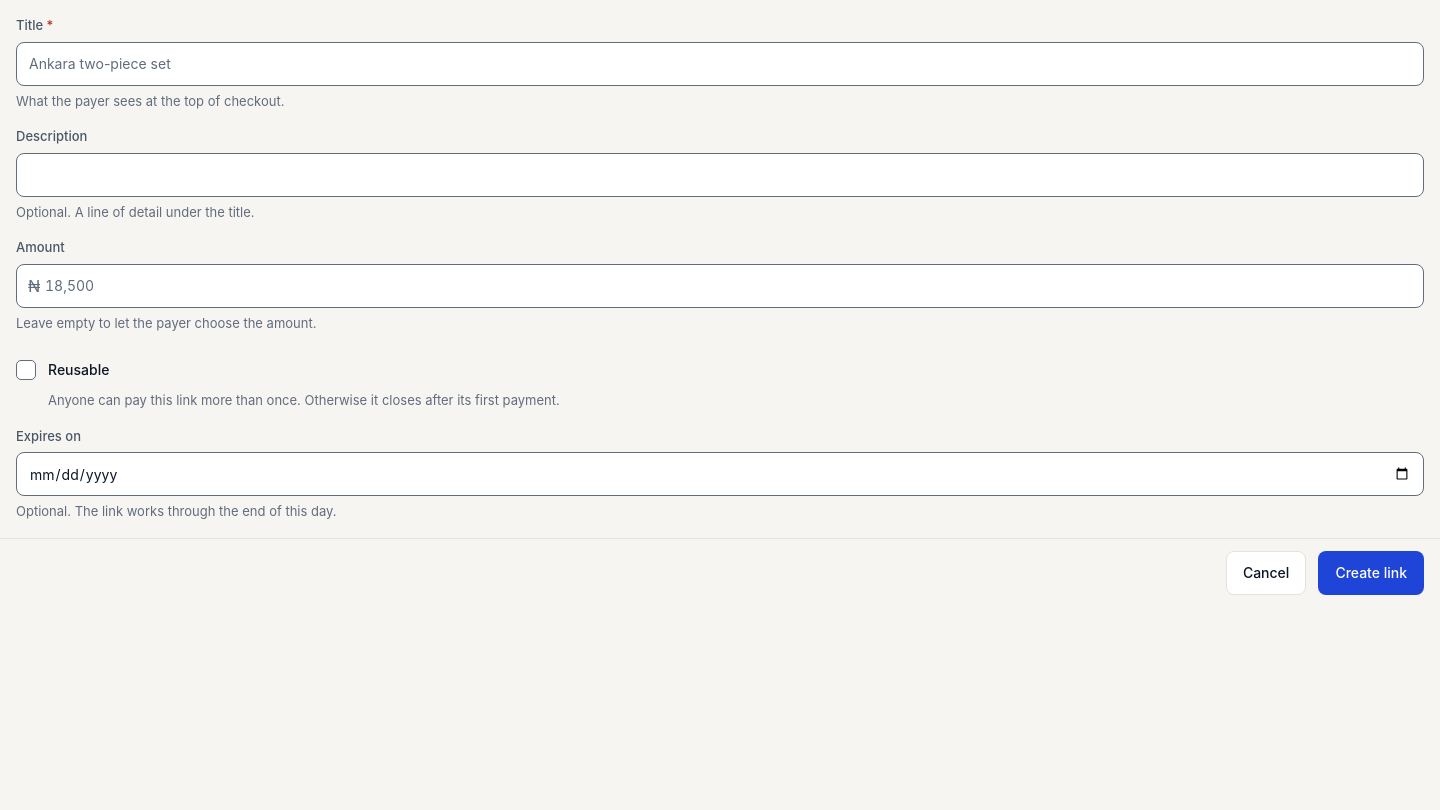
Test: CreateLinkForm — Done when: validation errors are inline › rejects a past expiry date
This screenshot has width=1440, height=810.
Type "Ankara set" into the field labelled "Title" at (720, 64), box [16,42,1424,86]
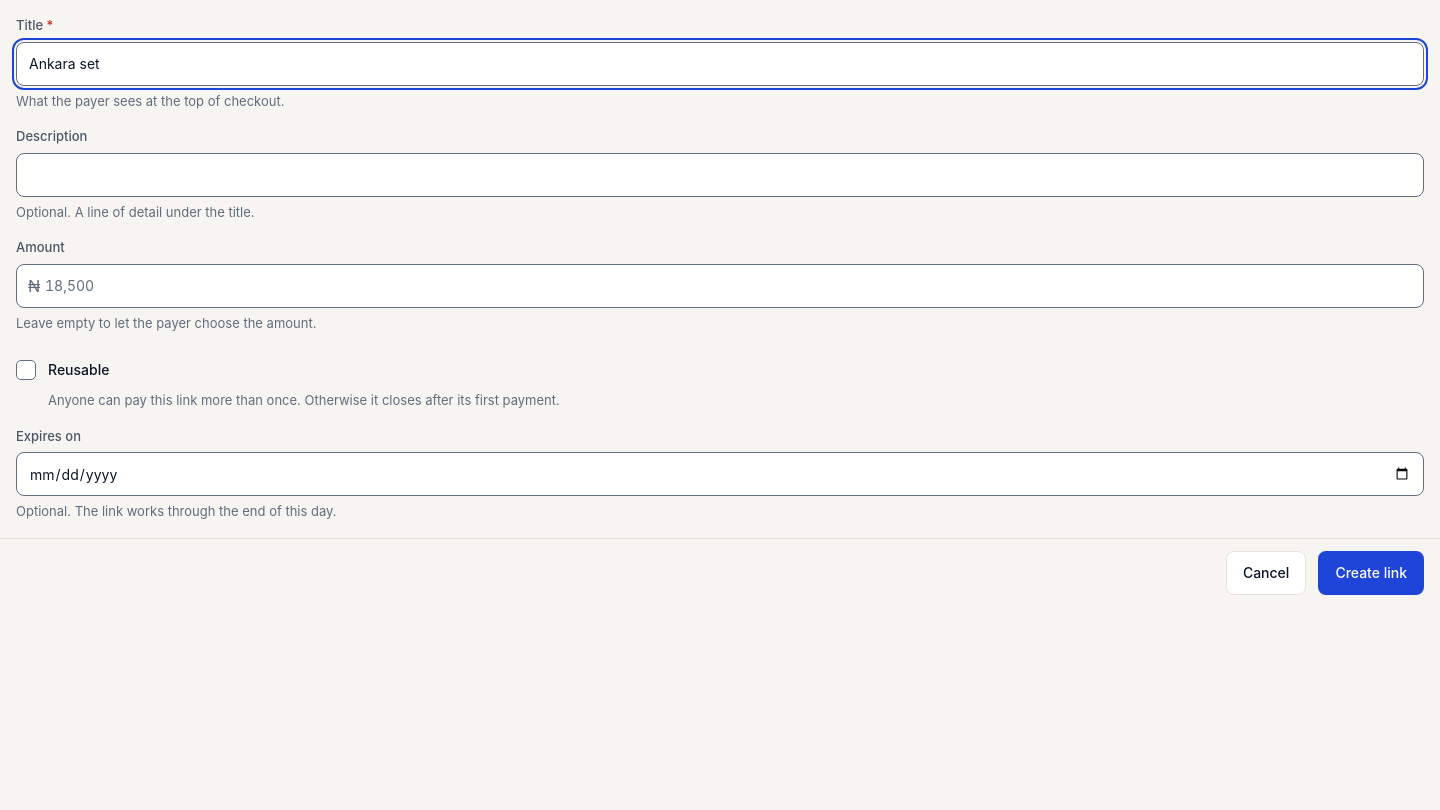
Type "2020-01-01" into the date field labelled "Expires on" at (720, 474), box [16,452,1424,496]
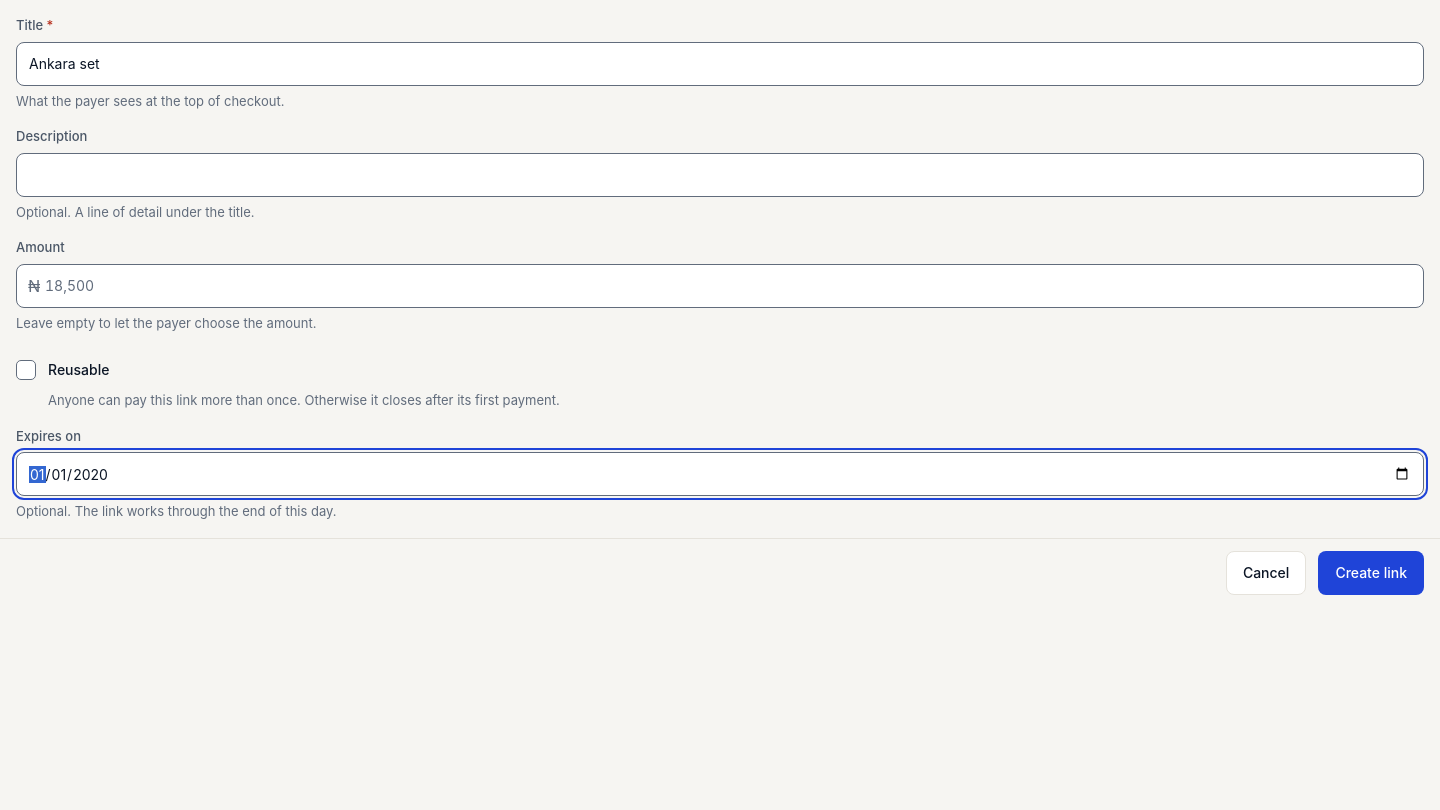
Click the button "Create link" at (1371, 572), box [1318,550,1424,594]
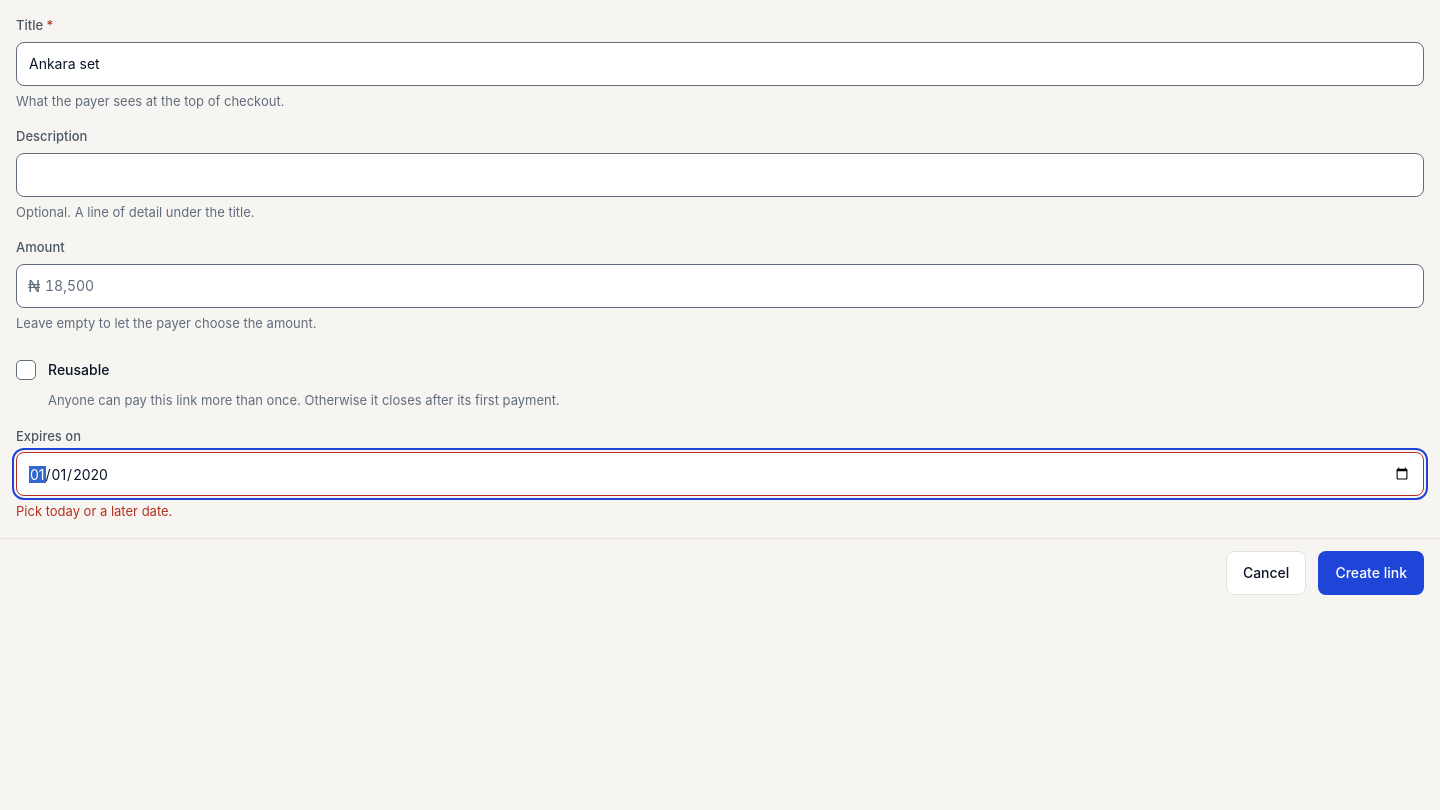
Expected: the text "Pick today or a later date." is shown, [16,503,172,519]
